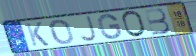B: (143, 7, 172, 36)
G: (97, 13, 123, 40)
J: (79, 15, 99, 43)
K: (24, 21, 51, 48)
O: (121, 10, 147, 39), (49, 19, 75, 46)
